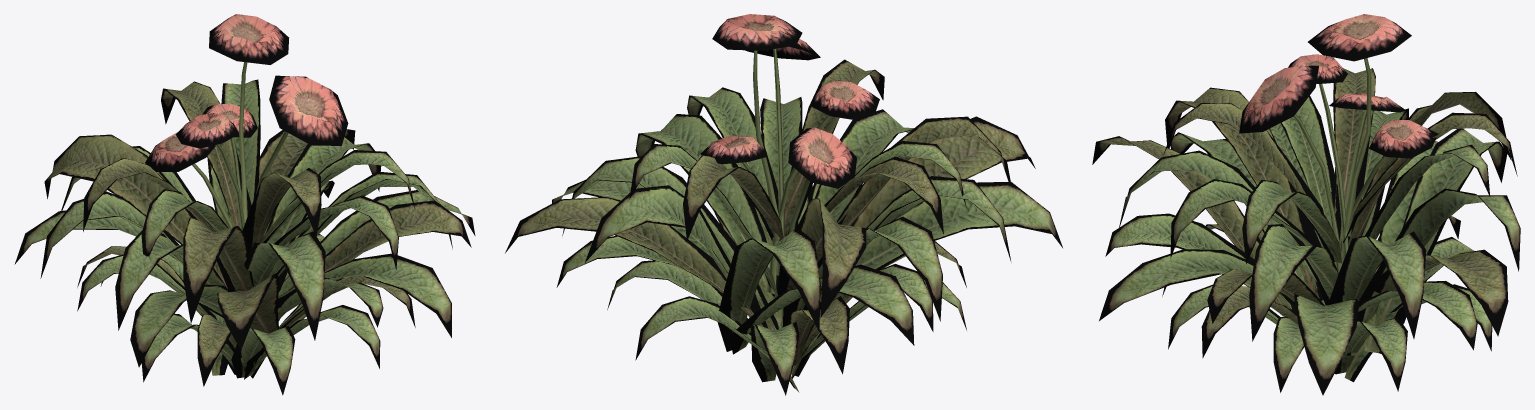
The model's file is flores.obj.
3 renders of one model, left to right at view 1: azimuth 30°, elevation 25°; view 2: azimuth 150°, elevation 25°; view 3: azimuth 270°, elevation 25°, orthographic. The views are drawn at different scales.
Visible parts, largest first — view 1: SM_item_flower1:SM_item_flower1; view 2: SM_item_flower1:SM_item_flower1; view 3: SM_item_flower1:SM_item_flower1.
Boxes of the visible parts, x1,y1,x2,y2 form: SM_item_flower1:SM_item_flower1: [14, 14, 475, 395]; SM_item_flower1:SM_item_flower1: [505, 14, 1062, 395]; SM_item_flower1:SM_item_flower1: [1092, 14, 1520, 395].
Bounding box in the file's own units: 5.3 × 4.22 × 4.54.
